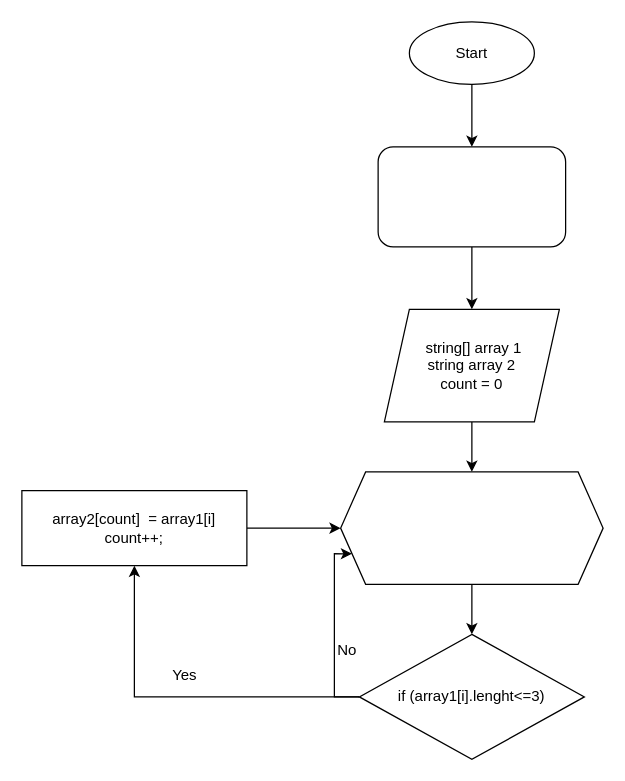
Image size: 625x781. Some labels were removed from this diagram. Here are the shapes that lost their labels. From the top down, the centre of each, then its label:
[471,196]: SecondArray
[471,527]: for ( i = 0; i = array1.lenght; i++)
